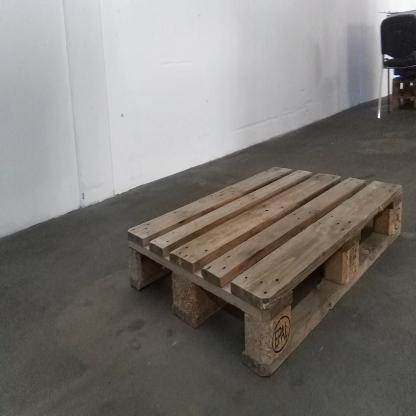BoxFace: (126, 159, 405, 392)
